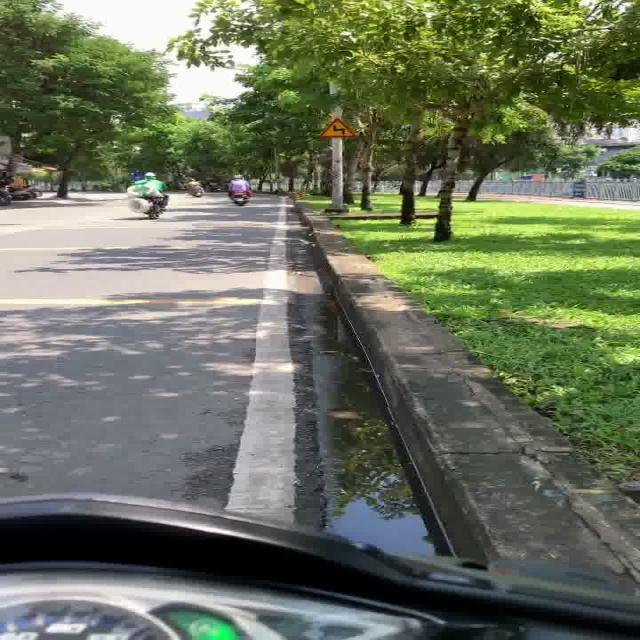Bien bao nhieu cho ngoat nguy hiem lien tiep: (316, 116, 364, 140)
